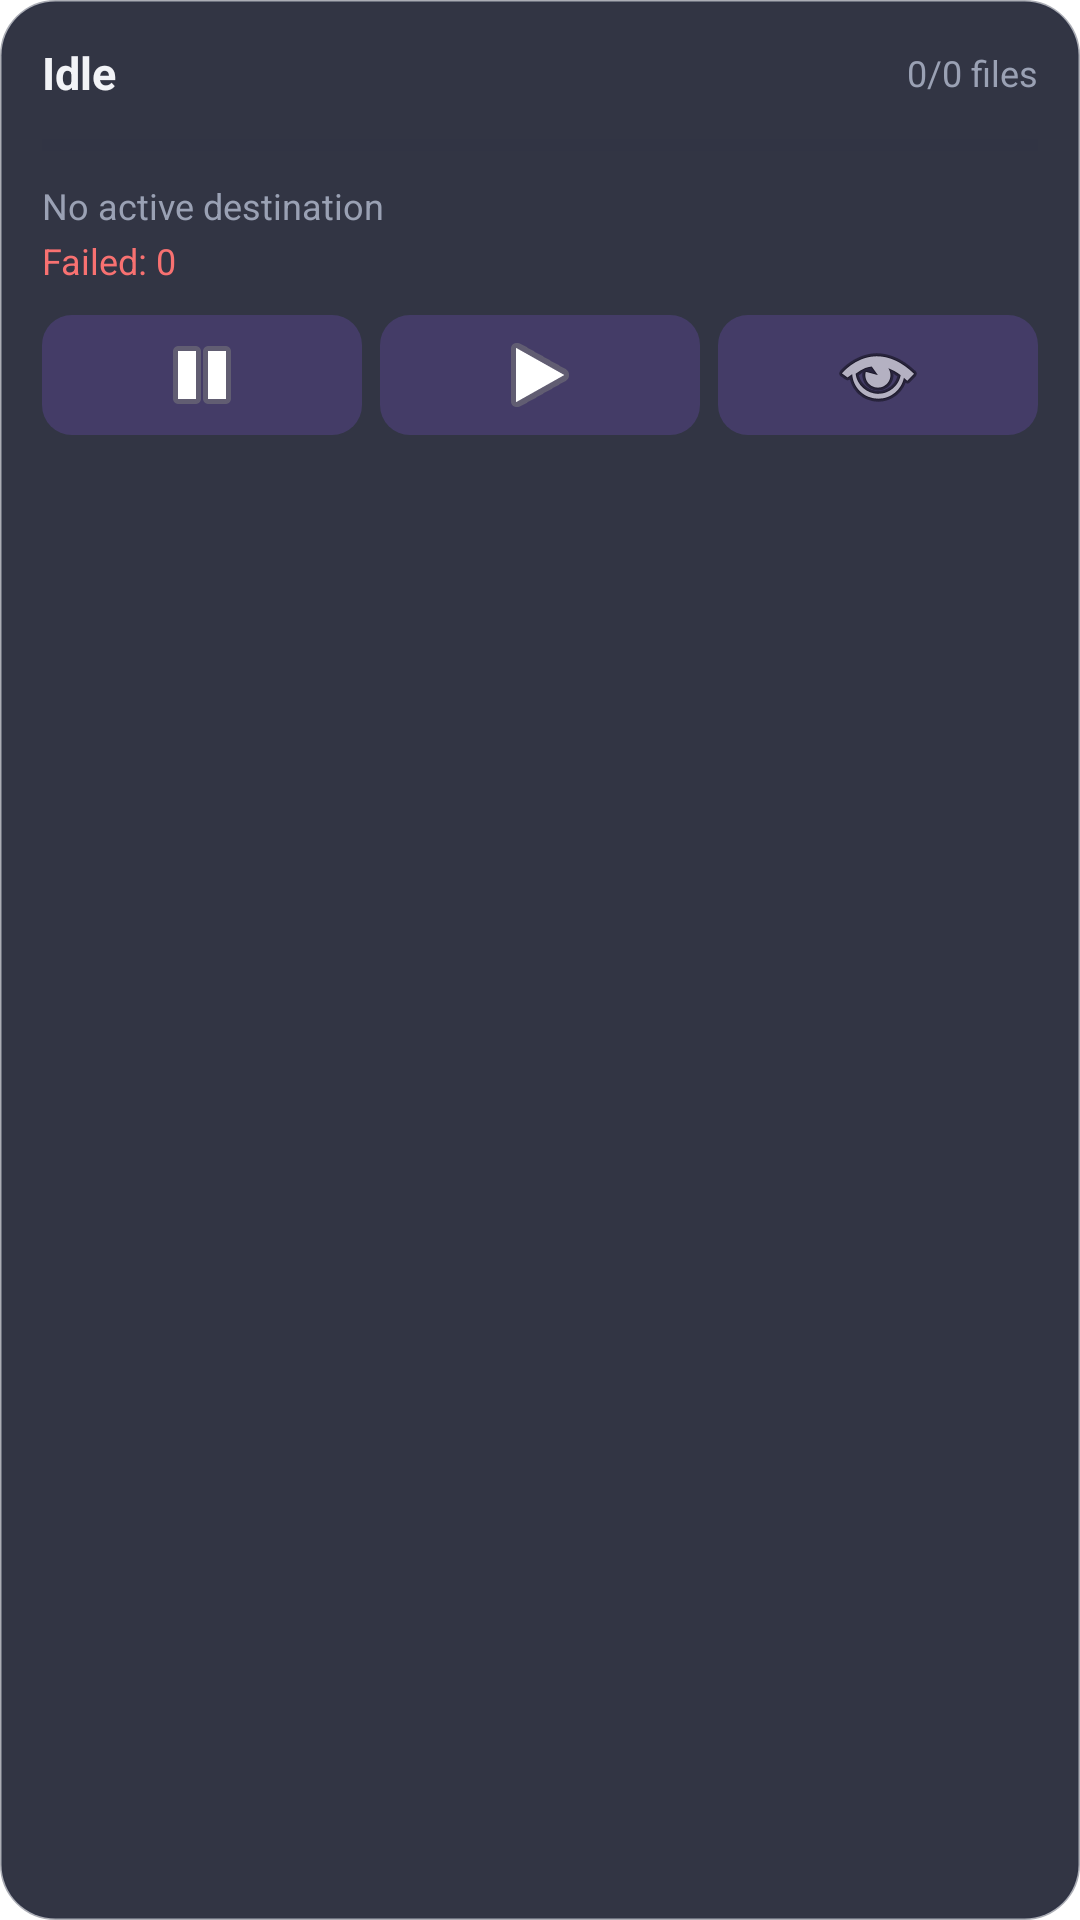

Named icons in this screenshot (1080 x 1920) and their centers, point (x, y):
Pause upload: point (202, 375)
Resume upload: point (540, 375)
